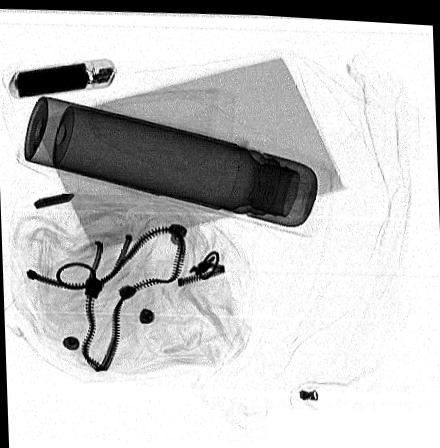Powerbank: (7, 54, 116, 98)
